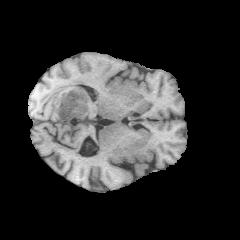glioma: (41, 80, 90, 120)
